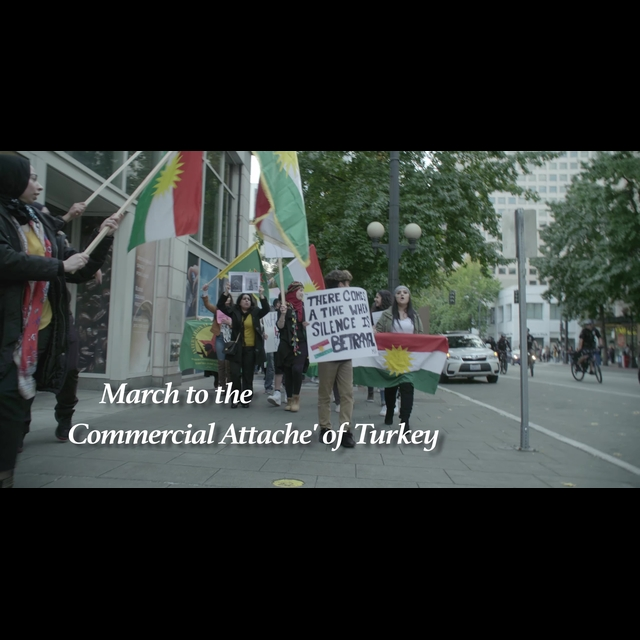IBKY: (377, 343, 421, 378)
